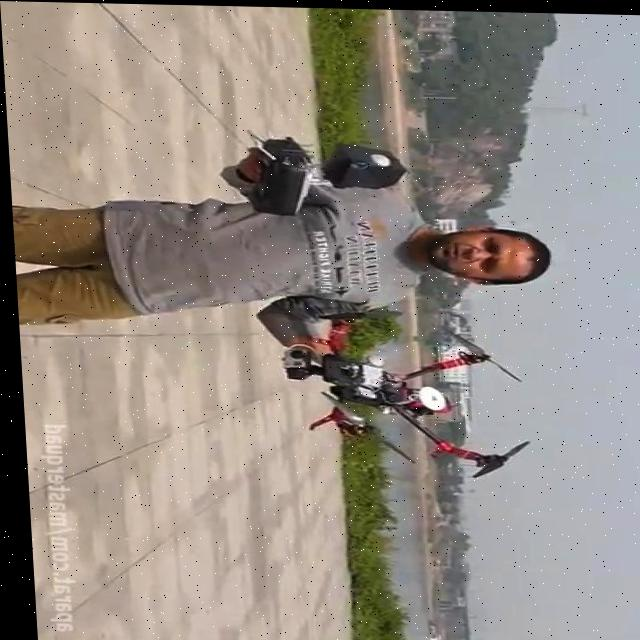drone: (268, 305, 530, 482)
